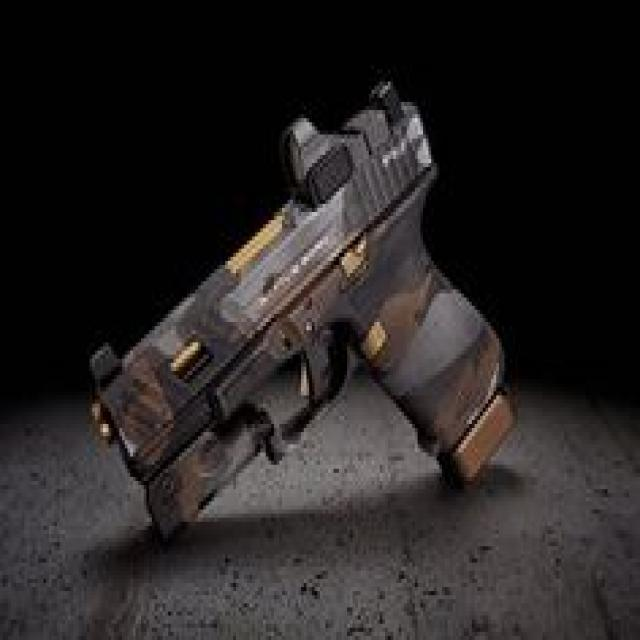semi automatic: (67, 60, 532, 596)
